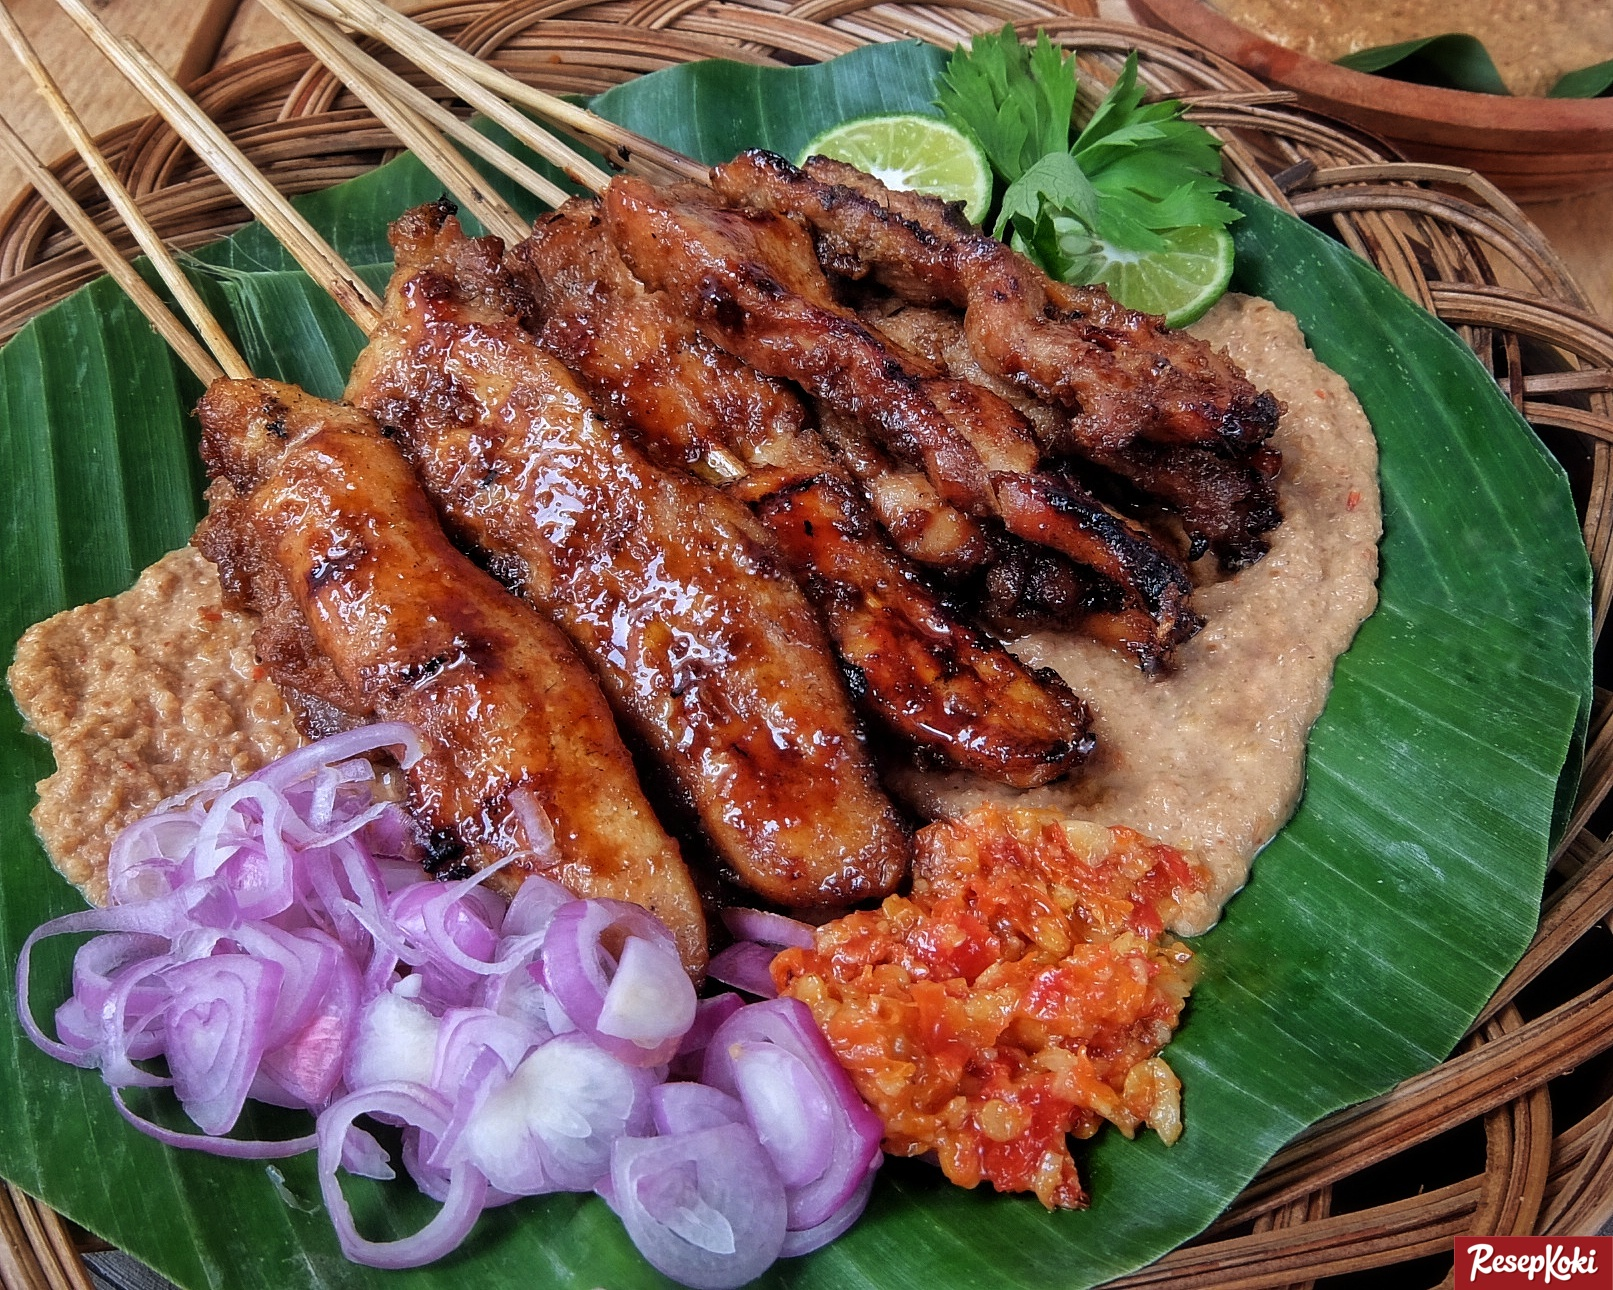sate: (45, 66, 1384, 1219)
